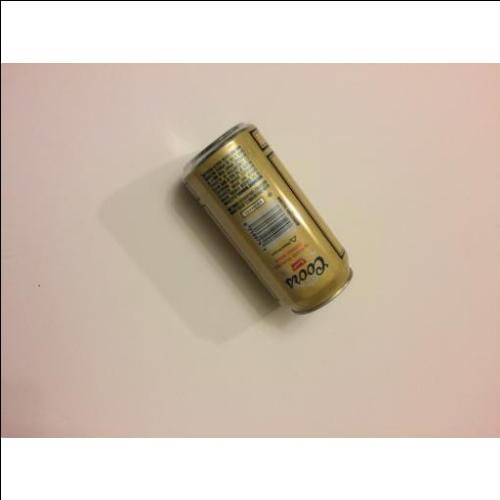metal: (181, 118, 352, 315)
